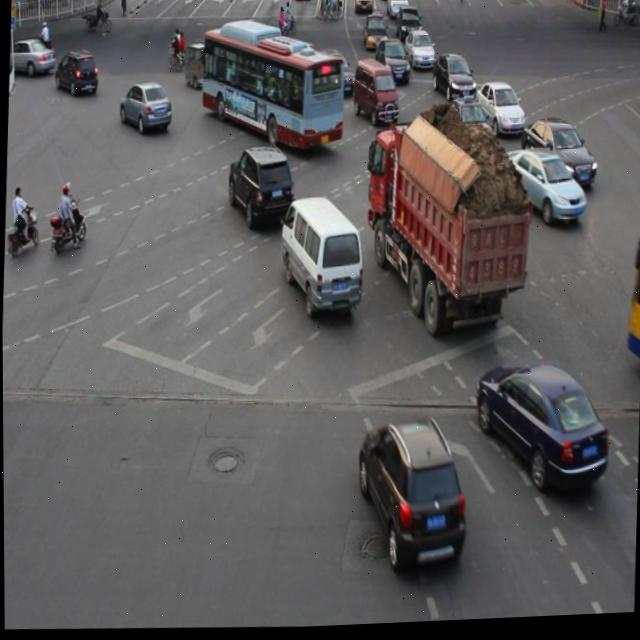bus: (361, 126, 529, 327)
car: (472, 363, 608, 497), (352, 416, 467, 573), (502, 148, 585, 231), (225, 144, 296, 234), (517, 117, 595, 194), (440, 100, 494, 158), (352, 61, 398, 129), (472, 81, 524, 141), (117, 79, 172, 134), (430, 55, 476, 104), (55, 48, 98, 99)
truck: (276, 194, 364, 317), (452, 156, 510, 227)
van: (198, 23, 345, 155)
